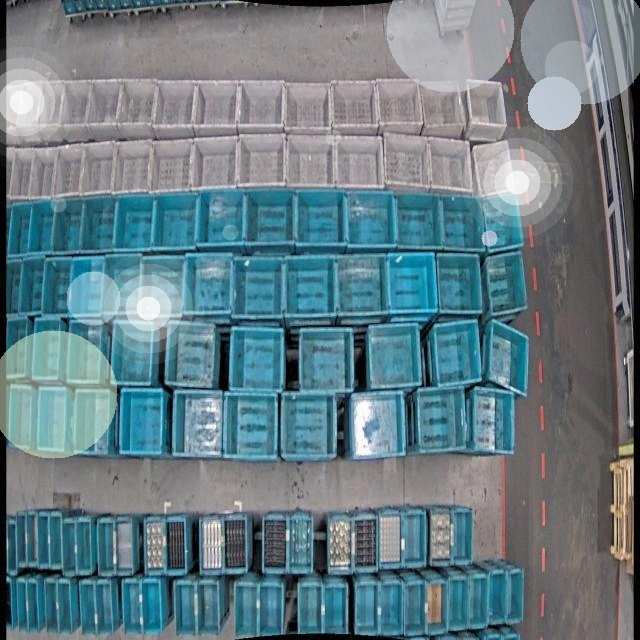Box: (366, 322, 424, 391), (228, 324, 285, 391), (224, 391, 278, 460), (282, 393, 338, 459), (351, 392, 407, 458), (166, 320, 218, 391), (415, 382, 466, 453), (300, 327, 354, 394), (431, 320, 483, 388), (487, 318, 530, 400), (468, 386, 517, 456), (436, 249, 485, 319), (336, 253, 388, 318), (244, 186, 296, 251), (230, 257, 285, 318), (386, 252, 439, 315), (284, 257, 338, 318), (295, 187, 347, 248), (174, 391, 222, 457), (438, 193, 488, 255), (184, 252, 231, 317), (426, 138, 475, 200), (346, 189, 396, 249), (111, 320, 156, 386), (484, 251, 528, 318), (384, 132, 430, 196), (197, 190, 246, 250), (393, 192, 442, 252), (120, 388, 163, 456), (141, 254, 186, 318), (375, 78, 424, 136), (481, 192, 526, 255), (334, 136, 384, 192), (421, 77, 467, 137), (237, 132, 285, 189), (152, 190, 197, 250), (101, 254, 143, 318), (332, 78, 378, 136), (472, 140, 517, 199), (287, 132, 334, 188), (284, 78, 332, 132), (195, 78, 239, 136), (192, 136, 236, 193), (153, 78, 196, 136), (74, 391, 112, 456), (466, 80, 506, 141), (238, 77, 284, 130), (118, 77, 156, 139), (68, 319, 104, 383), (151, 137, 192, 193), (112, 142, 154, 195), (78, 142, 118, 195), (70, 257, 104, 319), (32, 317, 64, 382), (116, 195, 153, 249), (80, 196, 116, 251), (38, 388, 68, 452), (88, 79, 120, 139), (60, 81, 91, 142), (8, 384, 34, 452), (52, 144, 84, 199), (52, 197, 83, 253), (402, 507, 427, 571), (36, 80, 62, 141), (42, 258, 70, 314), (27, 197, 55, 253), (328, 512, 353, 574), (428, 502, 452, 566), (354, 580, 380, 638), (289, 514, 314, 574), (17, 82, 42, 142), (264, 512, 288, 574), (199, 517, 224, 575), (223, 513, 248, 571), (10, 146, 36, 201), (297, 582, 324, 634), (19, 258, 44, 314), (29, 147, 57, 197), (6, 315, 28, 378), (164, 514, 187, 574), (379, 509, 402, 569), (450, 508, 473, 568), (194, 581, 220, 634), (234, 583, 258, 640), (380, 580, 403, 638), (143, 516, 165, 576), (97, 516, 118, 578), (356, 514, 378, 573), (259, 581, 283, 635), (324, 584, 348, 634), (140, 580, 162, 634), (174, 582, 196, 636), (404, 582, 426, 636), (426, 580, 448, 634), (8, 203, 30, 257), (116, 516, 136, 575), (121, 580, 142, 634), (448, 576, 468, 630), (79, 581, 98, 637), (95, 580, 113, 636), (62, 516, 78, 578), (508, 569, 526, 624), (488, 570, 506, 624), (470, 575, 488, 628), (56, 578, 73, 634), (44, 579, 60, 637), (6, 259, 22, 316), (49, 510, 64, 570), (7, 85, 22, 145), (78, 518, 93, 576), (7, 515, 20, 575), (16, 578, 30, 633), (27, 580, 41, 634), (28, 510, 40, 570), (39, 510, 50, 570), (18, 511, 30, 564), (6, 576, 15, 630)
